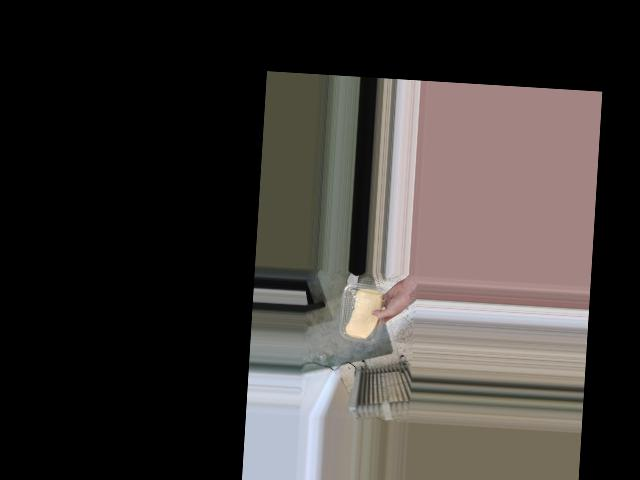cheese: (339, 283, 388, 346)
